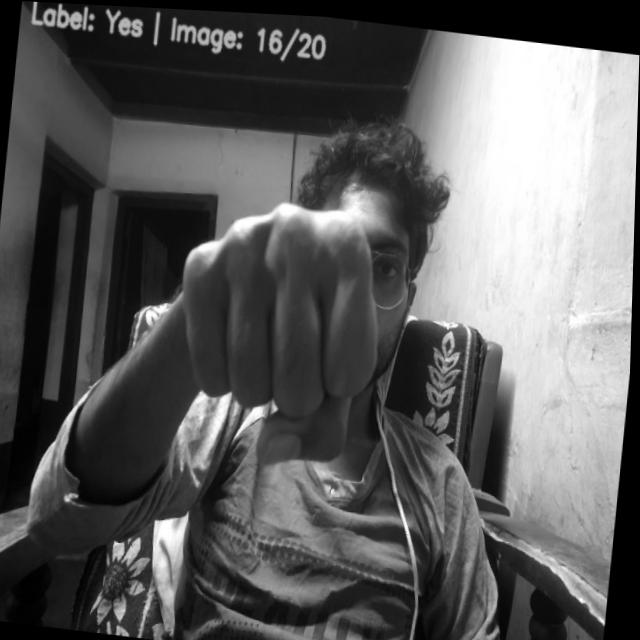Yes: (169, 186, 392, 475)
